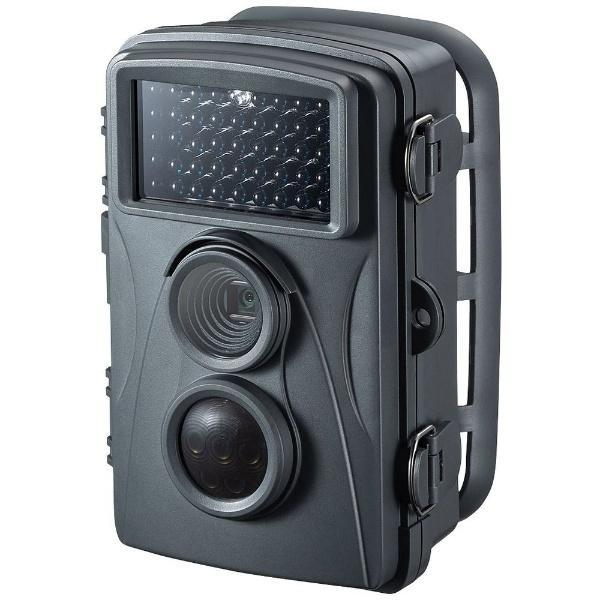maru: (100, 3, 505, 595)
